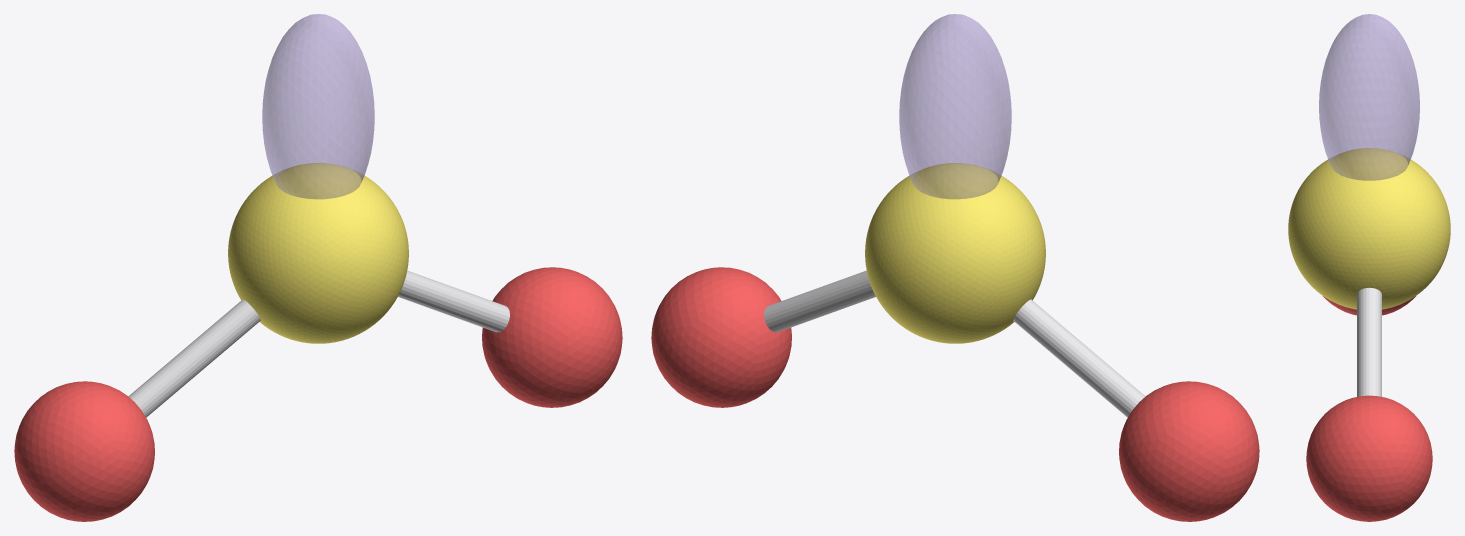
The picture shows the model from 3 angles, left to right: view 1: azimuth 30°, elevation 25°; view 2: azimuth 150°, elevation 25°; view 3: azimuth 270°, elevation 25°; orthographic projection. The views are drawn at different scales.
Visible parts, largest first — view 1: S_centre, lone_pair_0, O_1, O_2, bond_1, bond_2; view 2: S_centre, lone_pair_0, O_1, O_2, bond_1, bond_2; view 3: S_centre, lone_pair_0, O_2, bond_2, O_1.
Boxes of the visible parts, left/top/right/bottom form: S_centre: left=228, top=163, right=408, bottom=343; lone_pair_0: left=262, top=14, right=374, bottom=198; O_1: left=14, top=381, right=154, bottom=521; O_2: left=482, top=267, right=622, bottom=407; bond_1: left=128, top=299, right=260, bottom=417; bond_2: left=398, top=270, right=509, bottom=332; S_centre: left=865, top=163, right=1045, bottom=343; lone_pair_0: left=899, top=14, right=1011, bottom=198; O_1: left=1119, top=381, right=1259, bottom=521; O_2: left=651, top=267, right=791, bottom=407; bond_1: left=1013, top=299, right=1145, bottom=417; bond_2: left=764, top=270, right=875, bottom=332; S_centre: left=1288, top=148, right=1450, bottom=309; lone_pair_0: left=1319, top=14, right=1419, bottom=180; O_2: left=1306, top=395, right=1432, bottom=521; bond_2: left=1357, top=287, right=1381, bottom=396; O_1: left=1323, top=296, right=1415, bottom=315.
Size of the model in its own units: 0.3385 by 0.2425 by 0.09.
